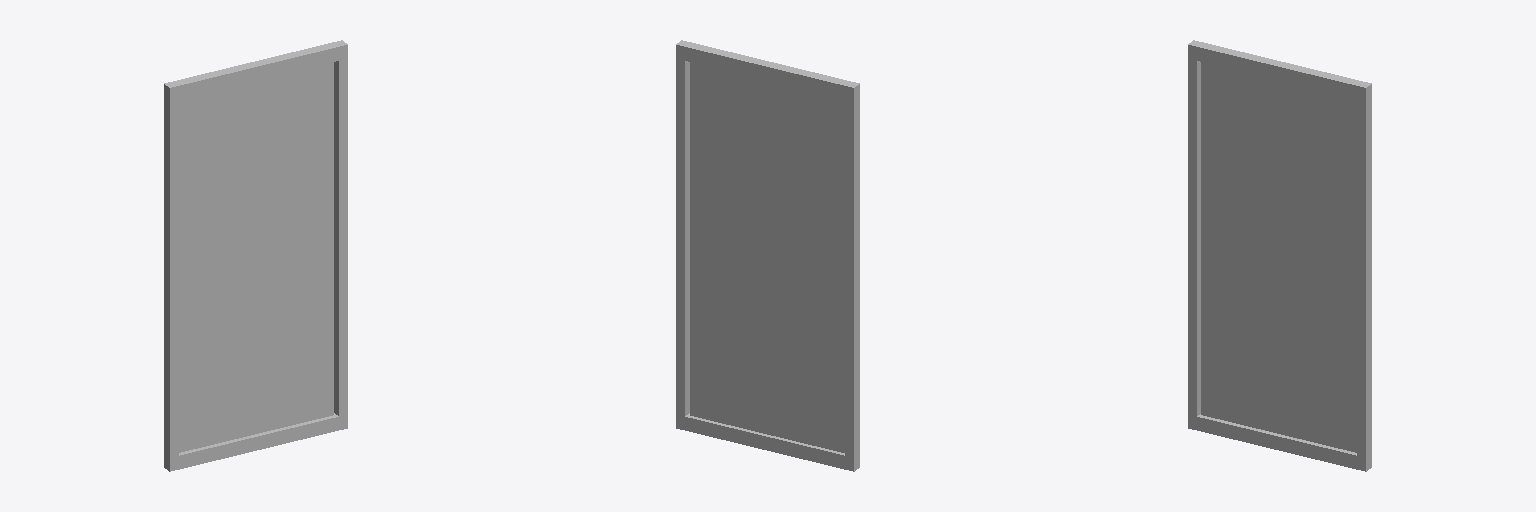
The model's file is PuertaCentral.obj.
3 views of the same model, side by side, from view 1: azimuth 30°, elevation 25°; view 2: azimuth 150°, elevation 25°; view 3: azimuth 330°, elevation 25° (orthographic).
Visible parts, largest first — view 1: Puerta:Rectangle09, Puerta:Rectangle08; view 2: Puerta:Rectangle09, Puerta:Rectangle08; view 3: Puerta:Rectangle09, Puerta:Rectangle08.
Part boxes in pixels (x1,y1,x2,y2): Puerta:Rectangle09: (179, 62, 333, 452); Puerta:Rectangle08: (164, 40, 347, 471); Puerta:Rectangle09: (690, 62, 844, 452); Puerta:Rectangle08: (676, 40, 859, 471); Puerta:Rectangle09: (1201, 62, 1356, 452); Puerta:Rectangle08: (1188, 40, 1371, 471).
Bounding box in the file's own units: 4.12 × 8.47 × 0.2415.